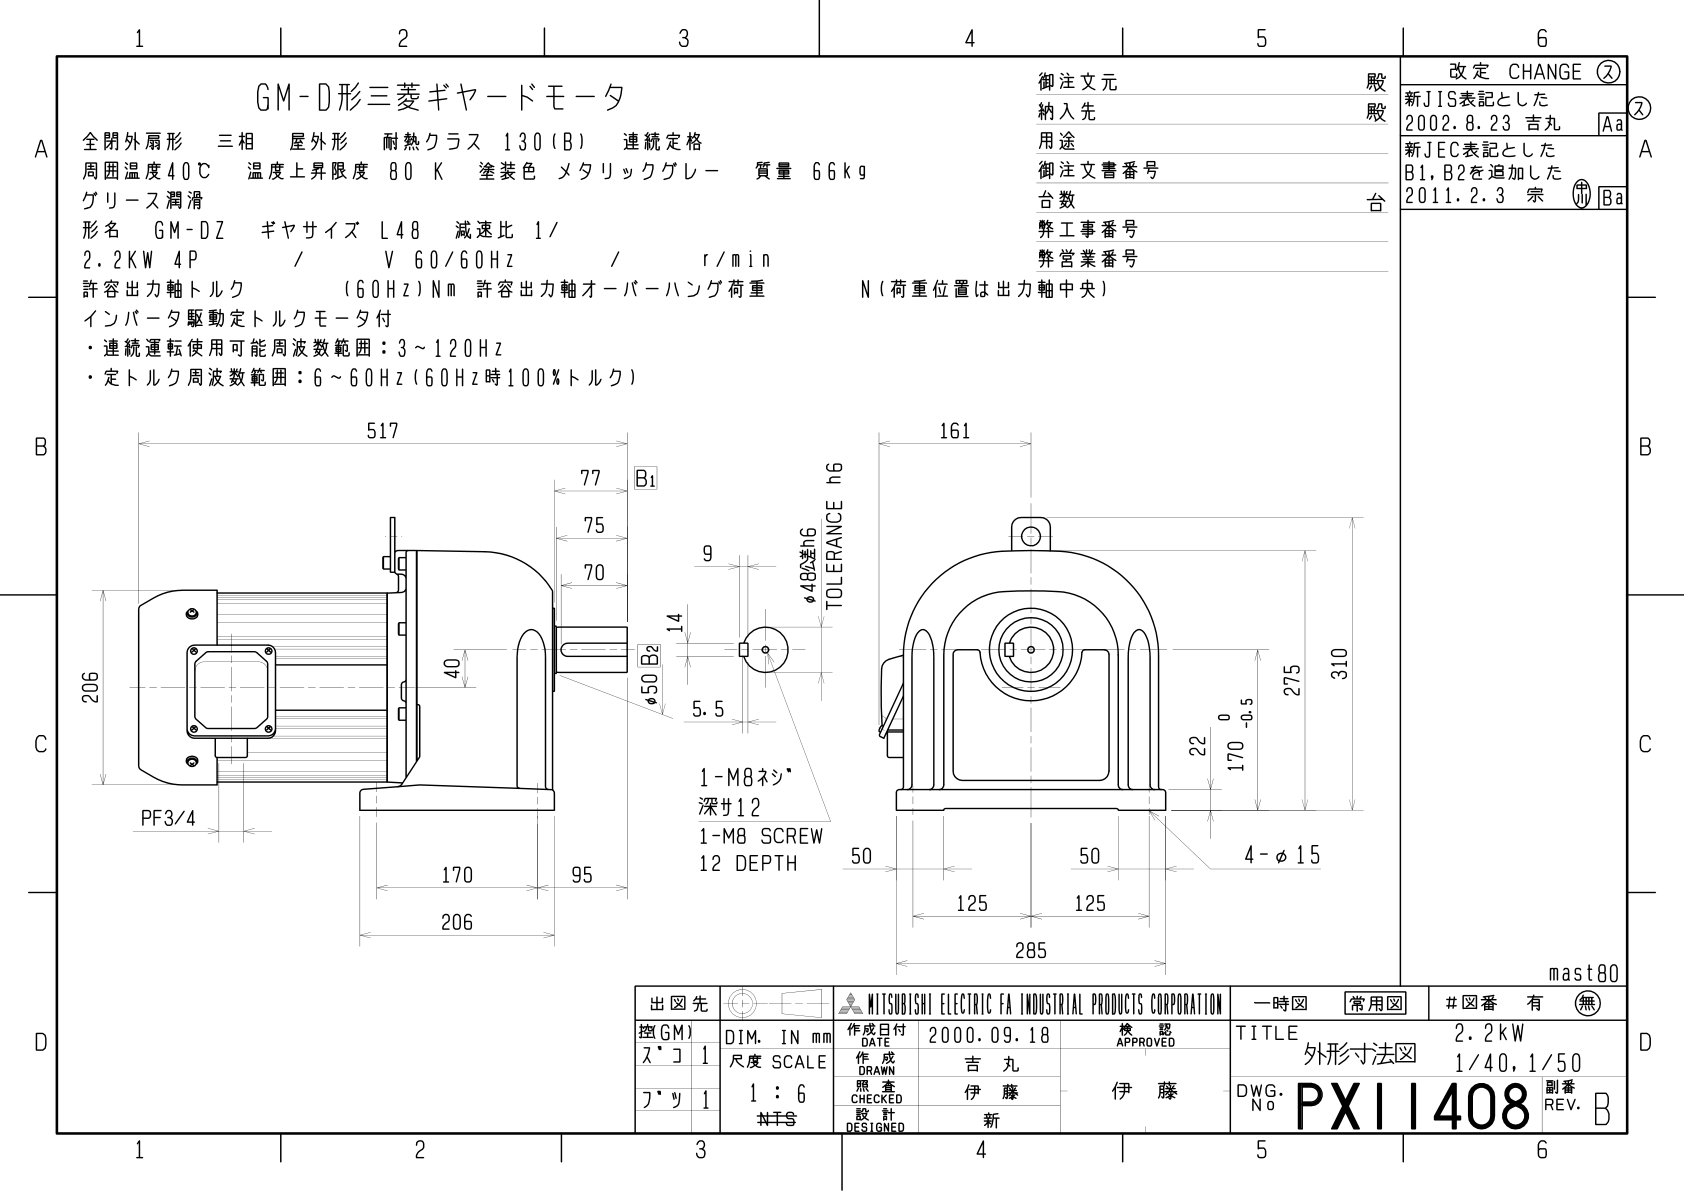GM_D_インバータ屋外_三相_脚: (75, 409, 1383, 974)
